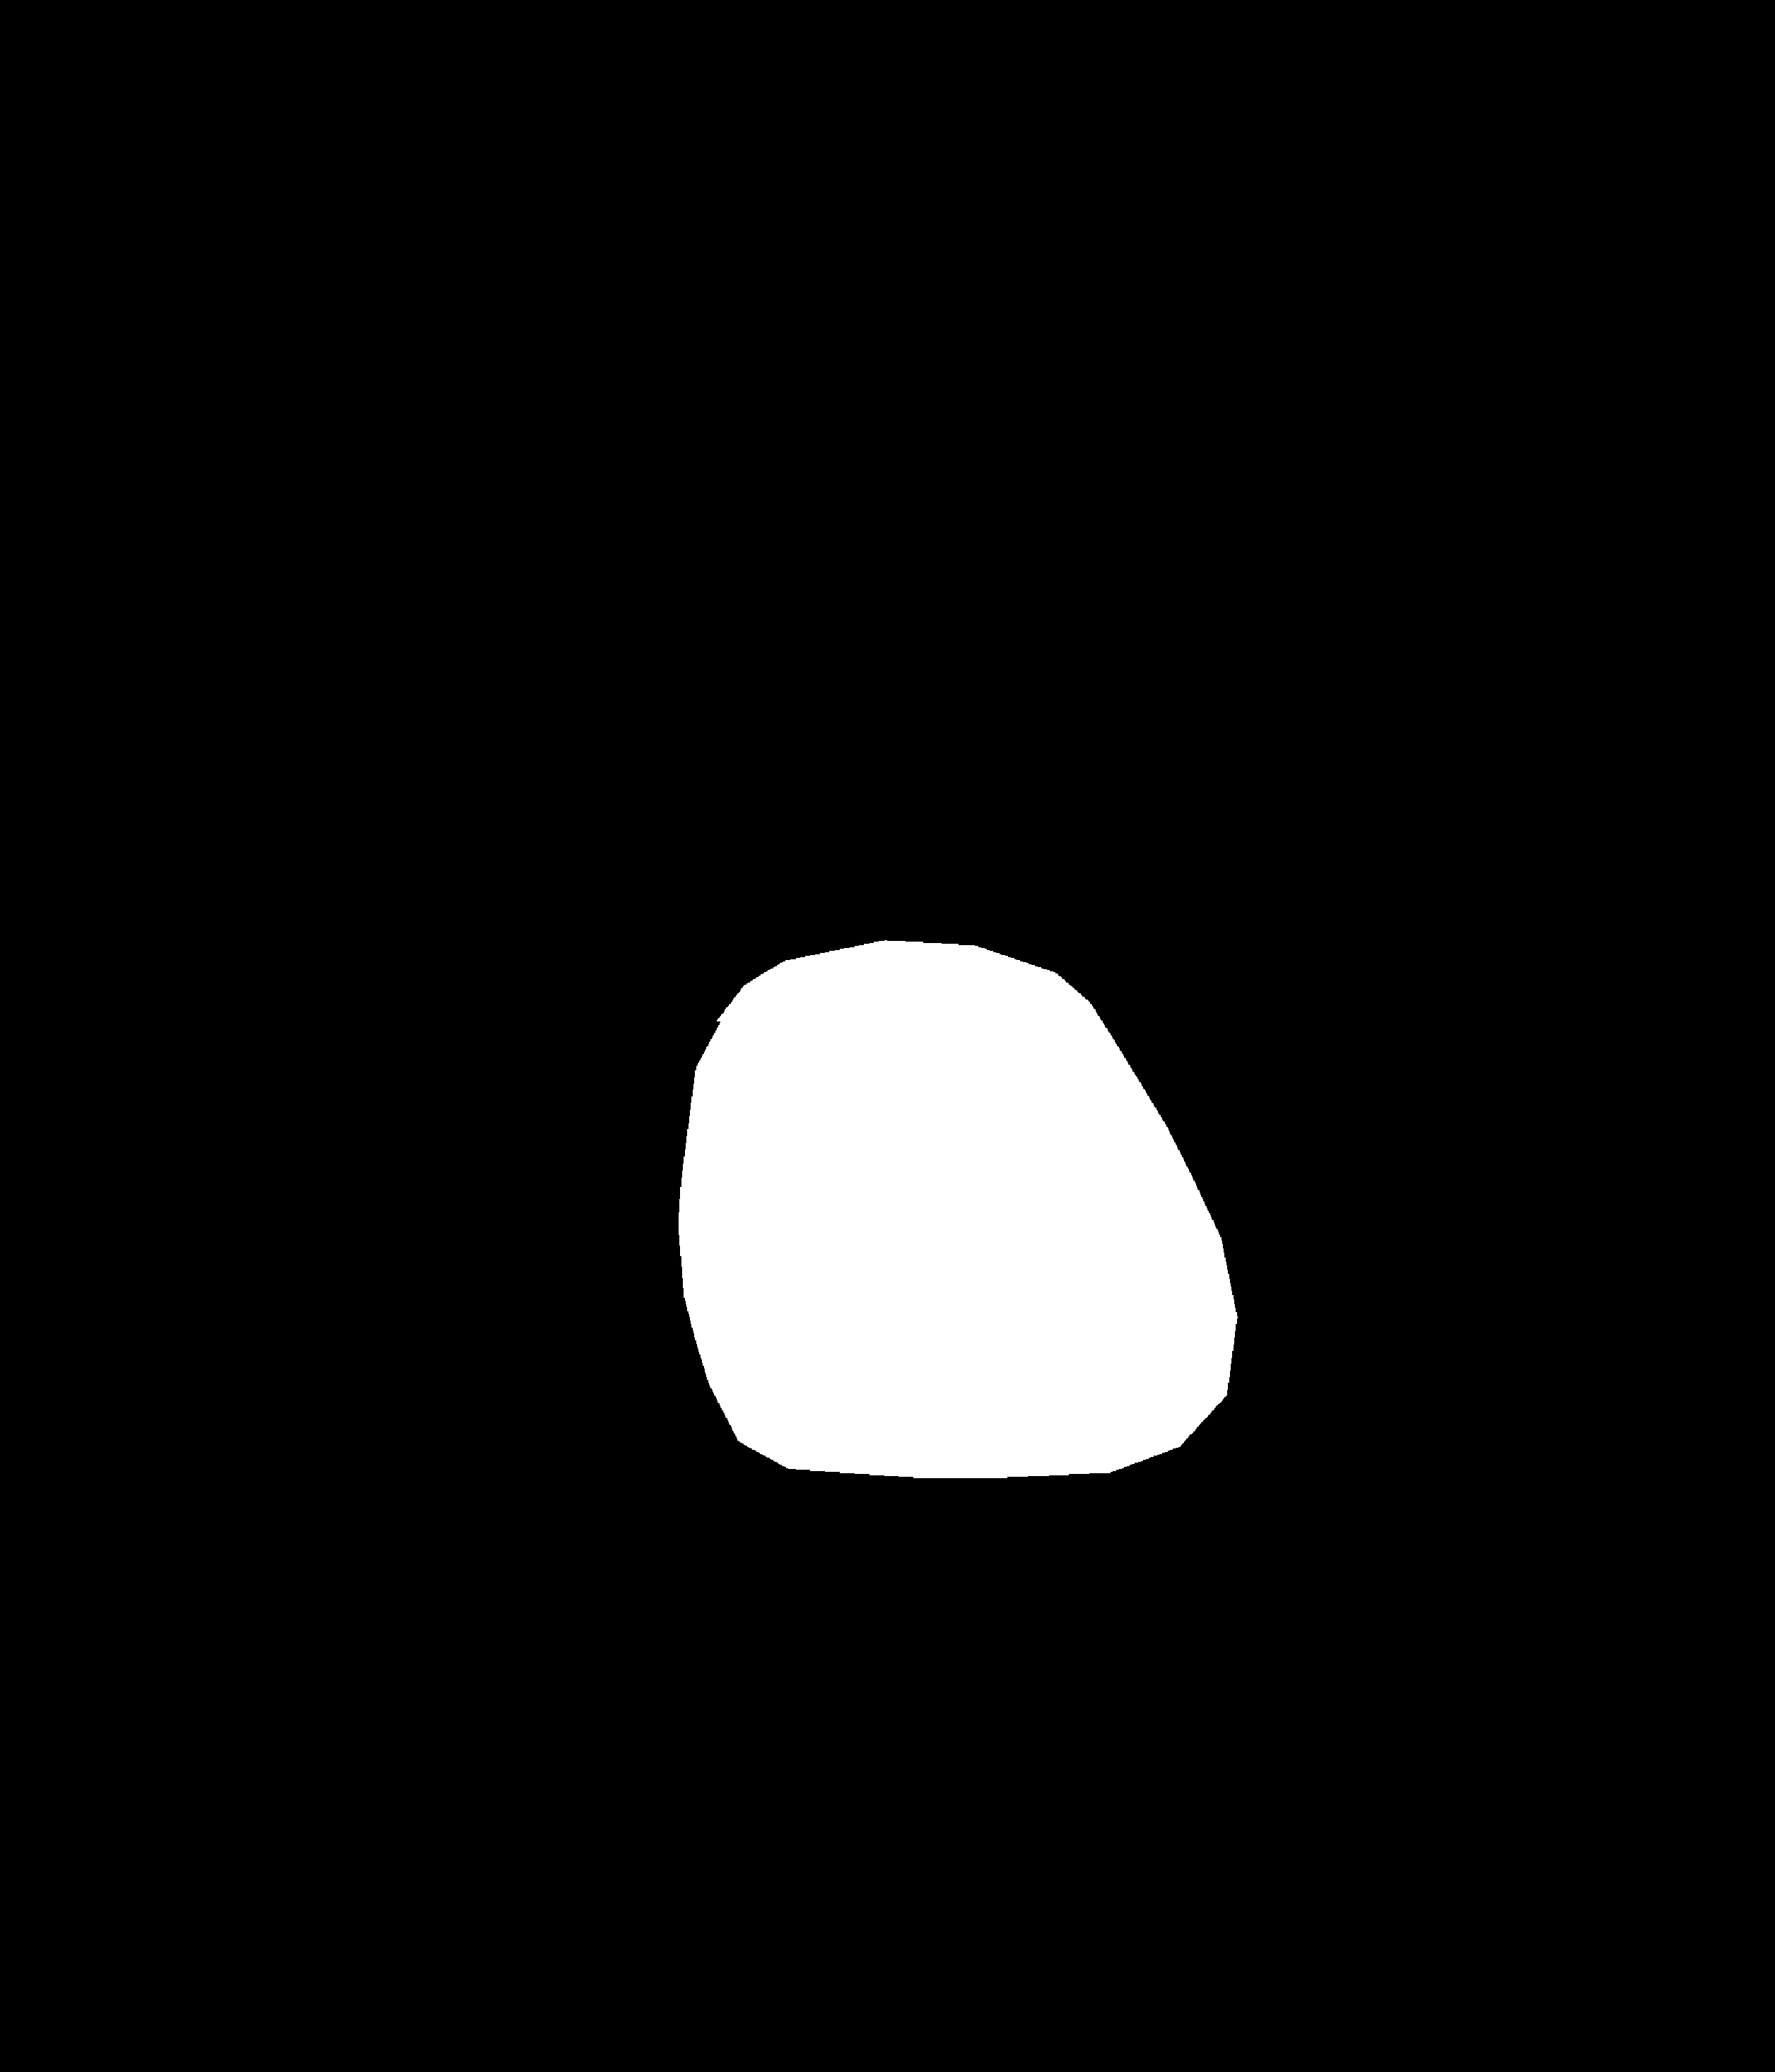heart: (680, 975, 1245, 1505)
left_lung: (204, 470, 794, 1591)
right_lung: (1032, 477, 1536, 1722)
